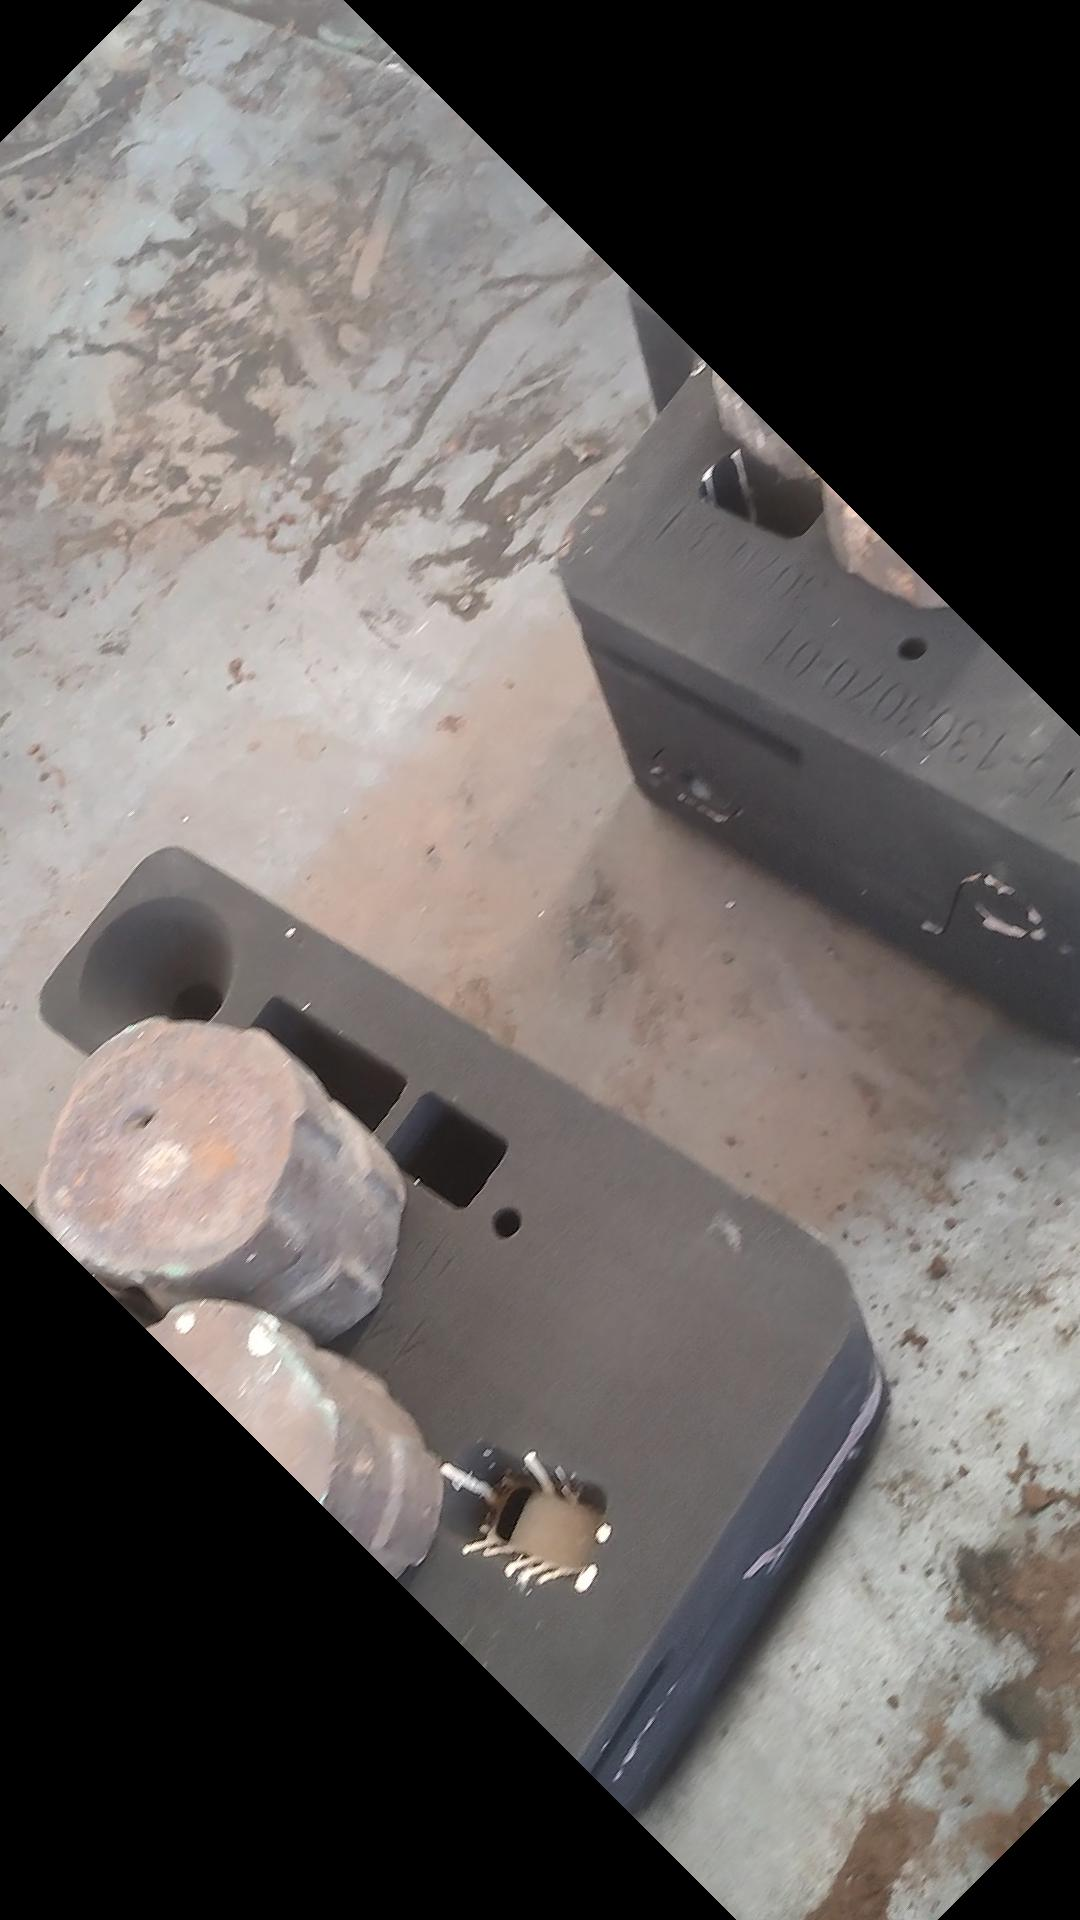pouring hole: (80, 895, 235, 1040)
